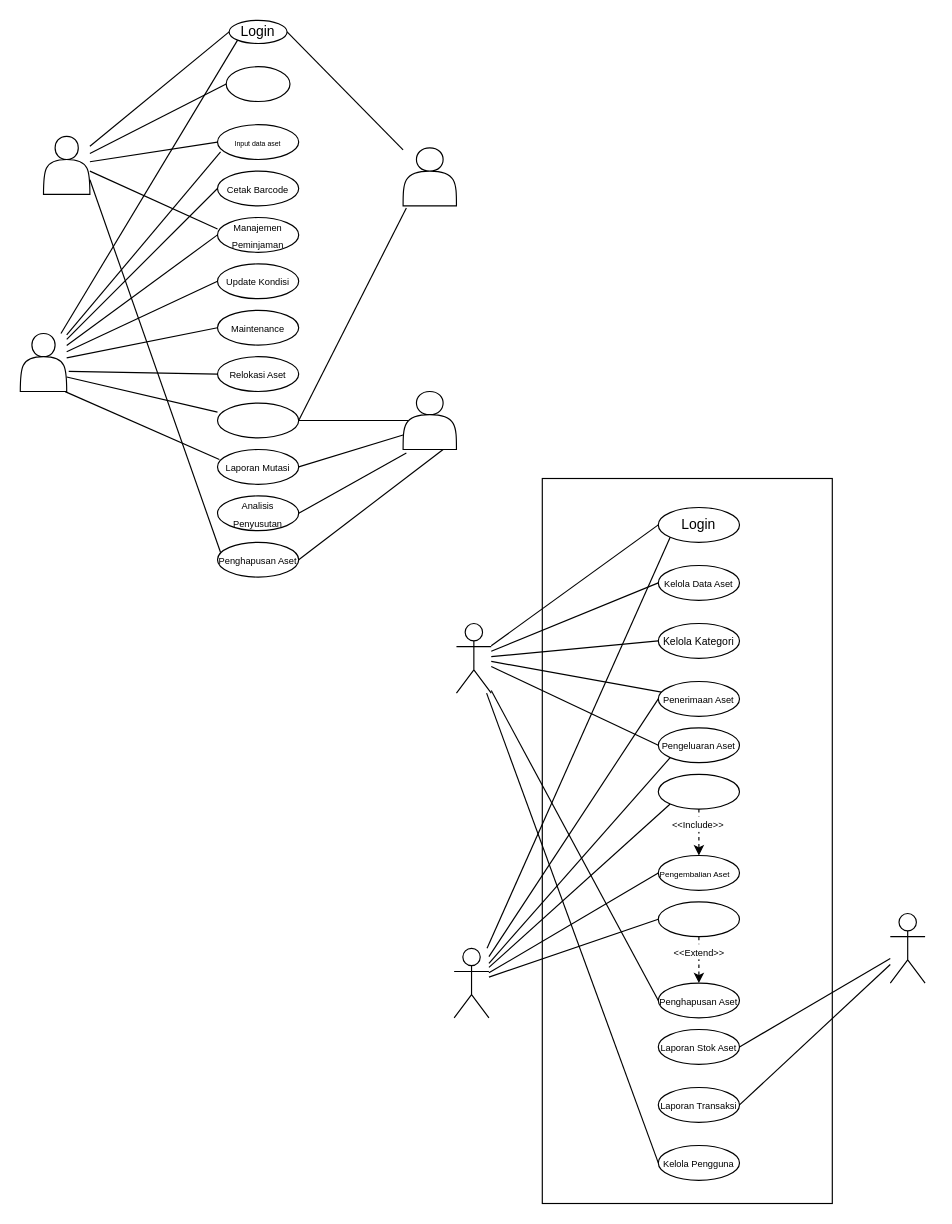
This 952x1224 diagram has some shape labels left out. The shapes that lost their labels are listed below. From the top down, each one's centre as x and y in pixels, then its label:
(x=257, y=84): Kelola pegguna
(x=257, y=420): Stok Opname
(x=473, y=657): Admin
(x=698, y=791): Peminjaman Aset
(x=698, y=919): Perawatan Aset
(x=907, y=947): Manajer
(x=471, y=982): Actor
